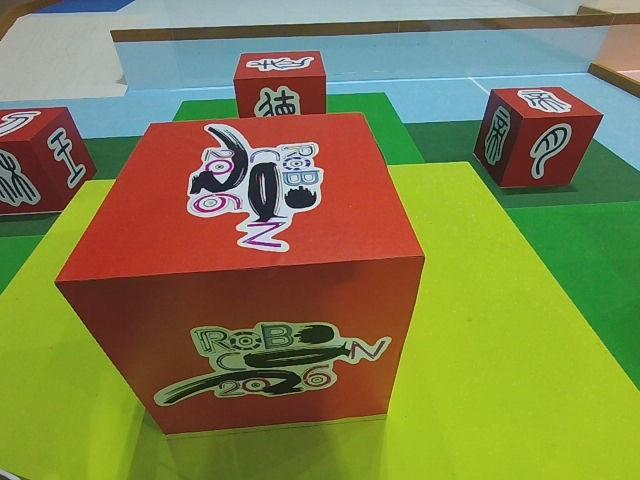R1: (51, 109, 428, 439)
R2 Fake: (471, 84, 606, 192), (0, 103, 99, 217), (232, 48, 330, 136)
